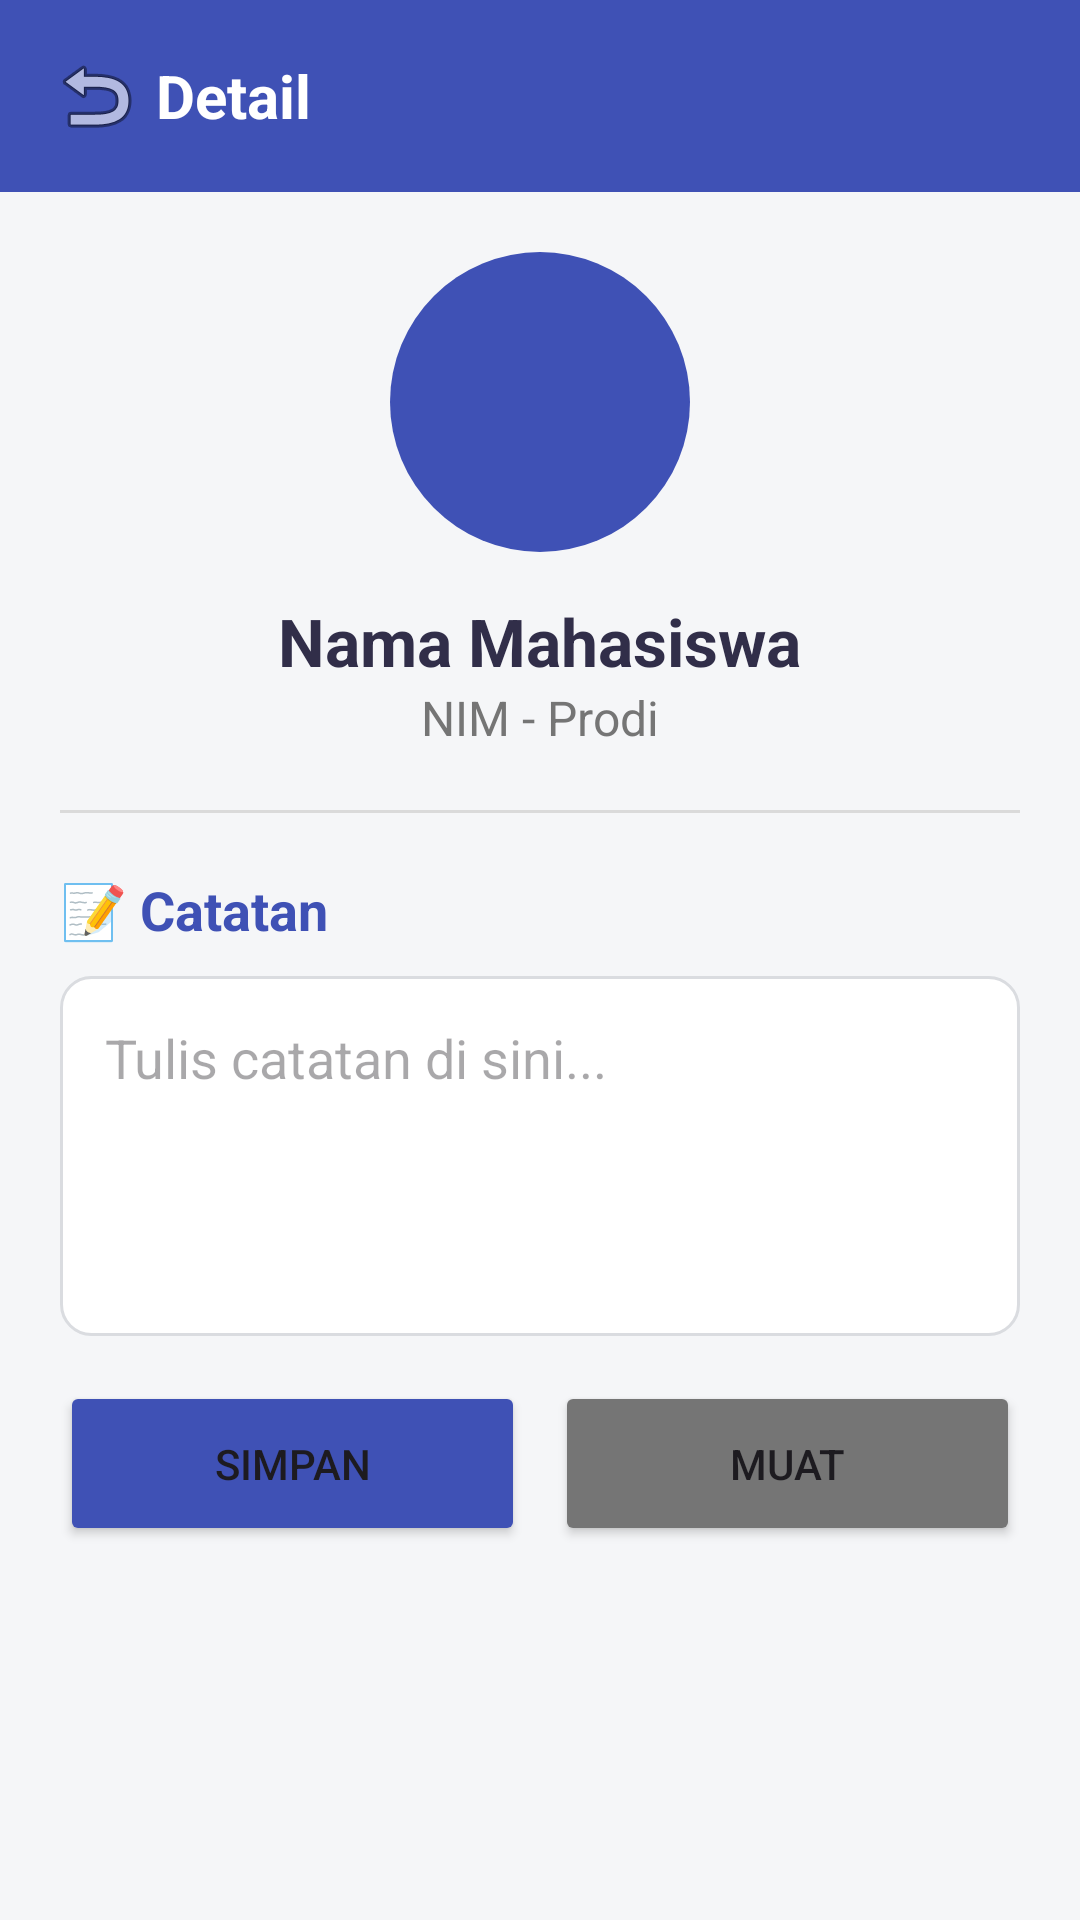

Screen size 1080px×1920px. Icon name, then its center in pixels as (x,y):
Back: (97,96)
